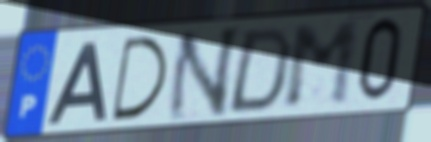0: (354, 14, 408, 109)
A: (44, 39, 109, 126)
D: (223, 25, 296, 116), (110, 34, 171, 124)
M: (282, 17, 362, 113)
N: (162, 23, 245, 125)
